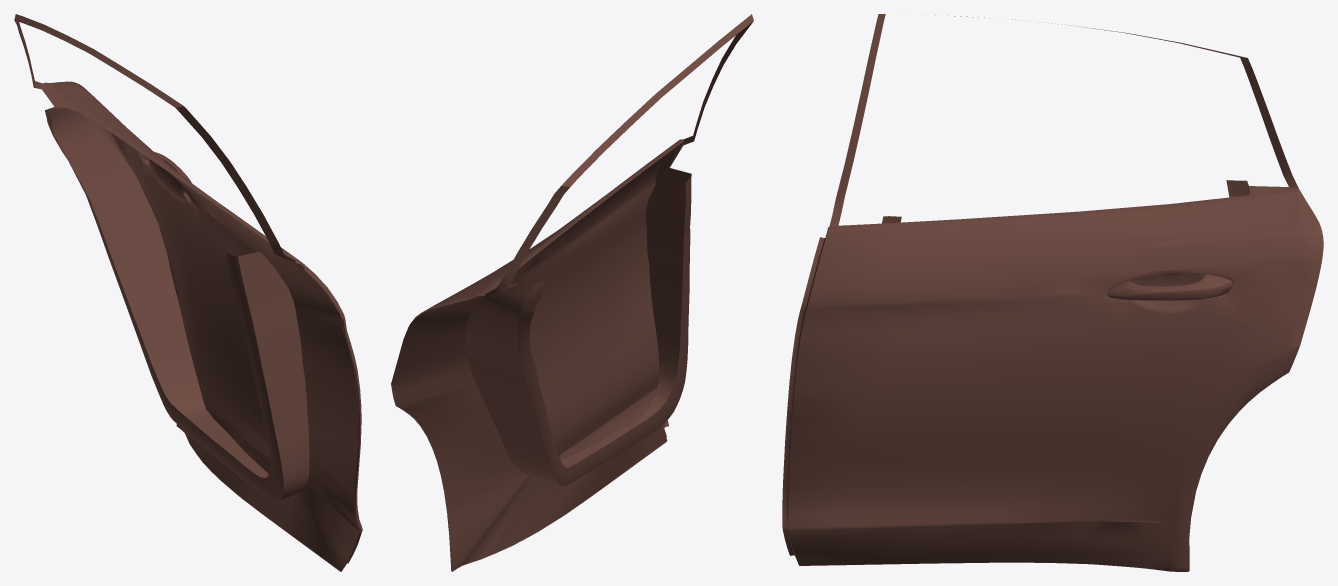
The model's file is Stanga_Spate_Maro.fbx.
3 renders of one model, left to right at view 1: azimuth 30°, elevation 25°; view 2: azimuth 150°, elevation 25°; view 3: azimuth 270°, elevation 25°, orthographic. The views are drawn at different scales.
Visible parts, largest first — view 1: door_LB; view 2: door_LB; view 3: door_LB.
Part boxes in pixels (x1,y1,x2,y2): door_LB: (14, 14, 362, 571); door_LB: (391, 14, 753, 571); door_LB: (782, 14, 1323, 571).
Size of the model in its own units: 668 by 1948 by 1947.
